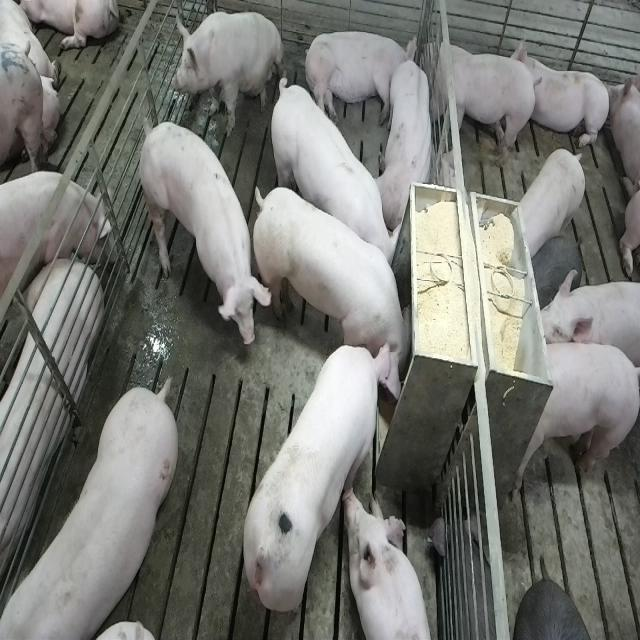Feeding: (242, 338, 401, 618), (255, 176, 421, 386)
Lateral_lying: (0, 251, 101, 609), (302, 28, 418, 128)
Sitting: (172, 8, 284, 136)
Standing: (0, 379, 174, 640), (136, 116, 268, 346), (266, 74, 398, 284), (514, 341, 638, 498), (422, 32, 538, 171), (535, 271, 640, 422), (0, 170, 114, 305), (514, 149, 588, 261)
Sternal_lying: (346, 486, 435, 640), (516, 35, 612, 154), (376, 55, 436, 232)
